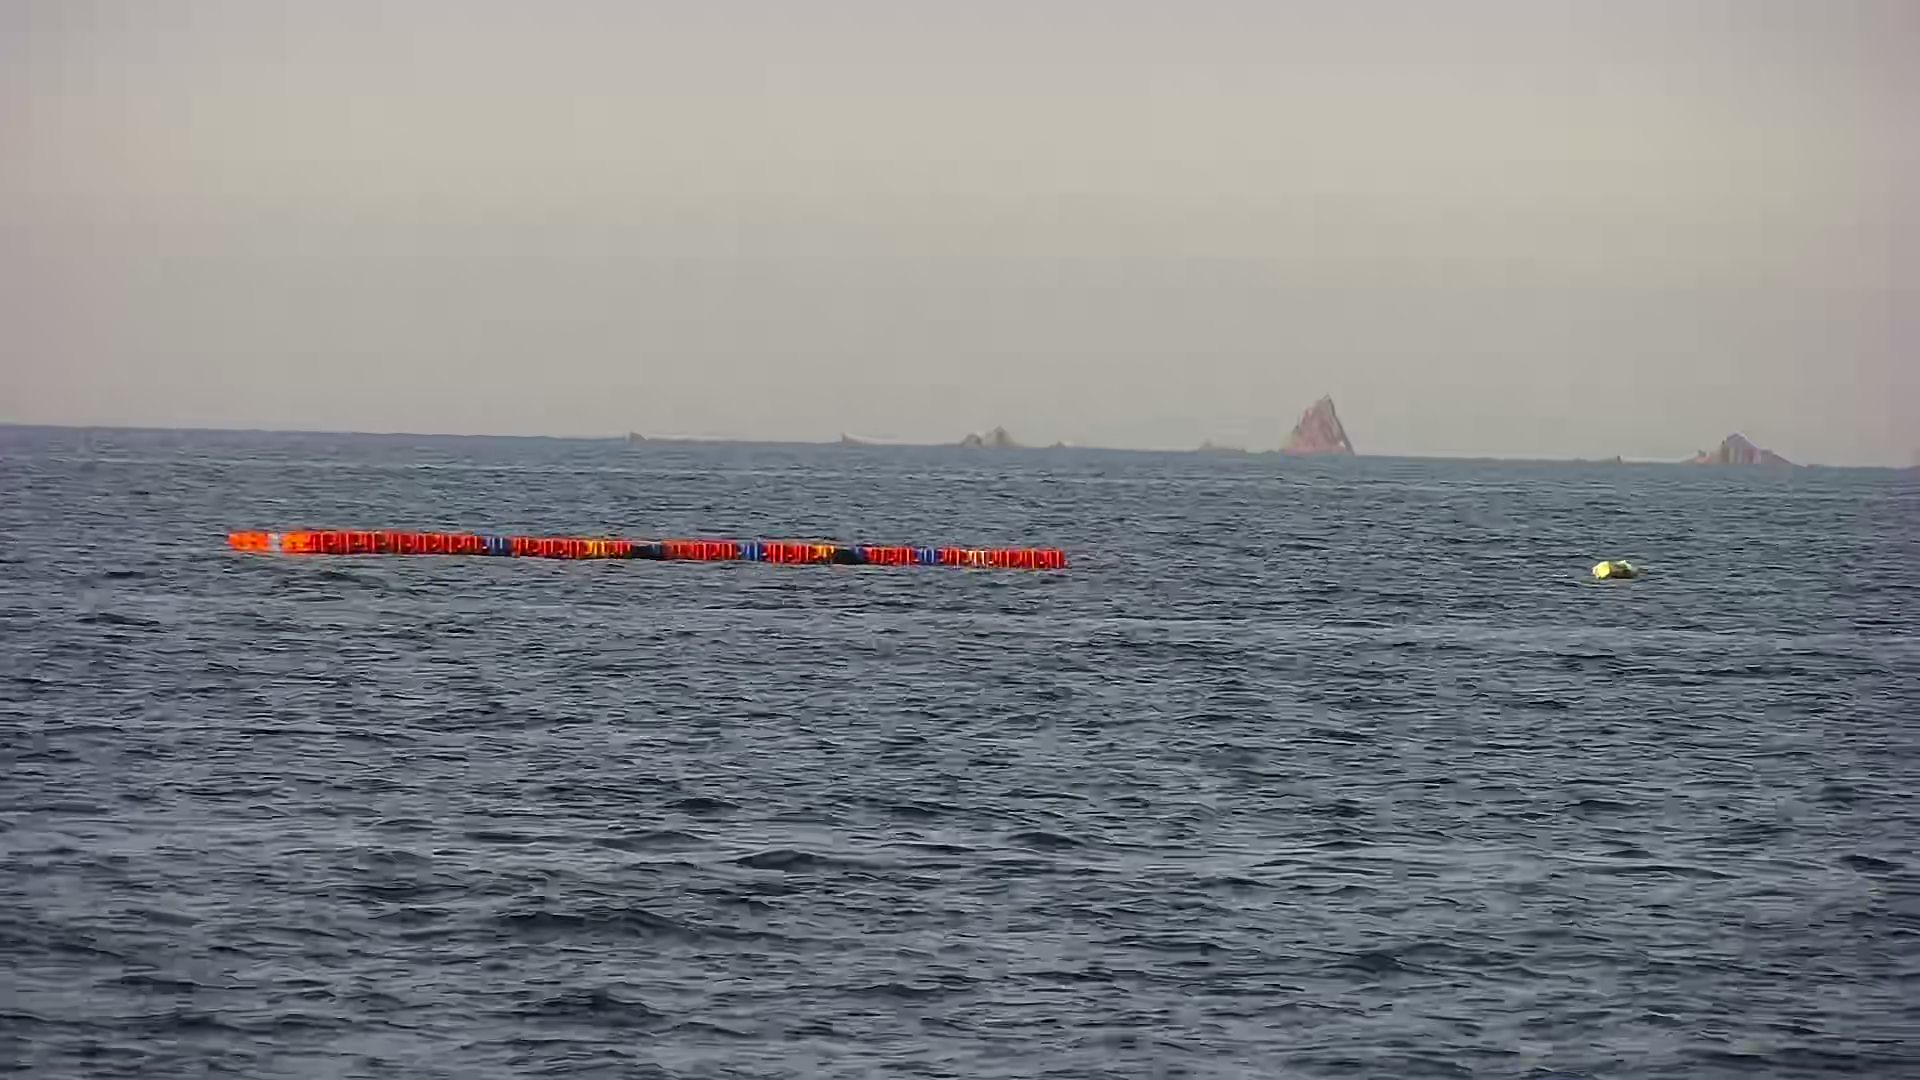rock: (1683, 413, 1809, 473), (1279, 380, 1358, 456), (949, 417, 1015, 450)
rubbish: (210, 521, 1072, 568), (1585, 553, 1640, 584)
